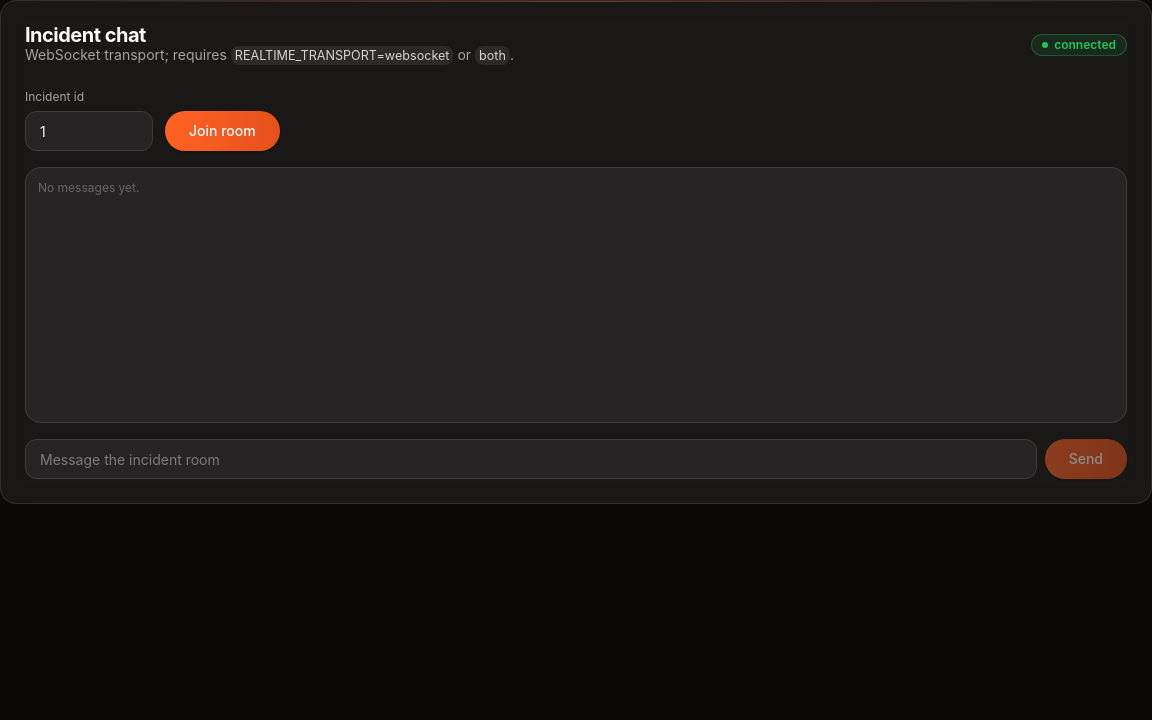
Test case: ChatPage › renders incoming chat messages for the joined room only
This screenshot has width=1152, height=720.
Click the button "Join room" at coordinates (222, 131), box [165,111,280,151]
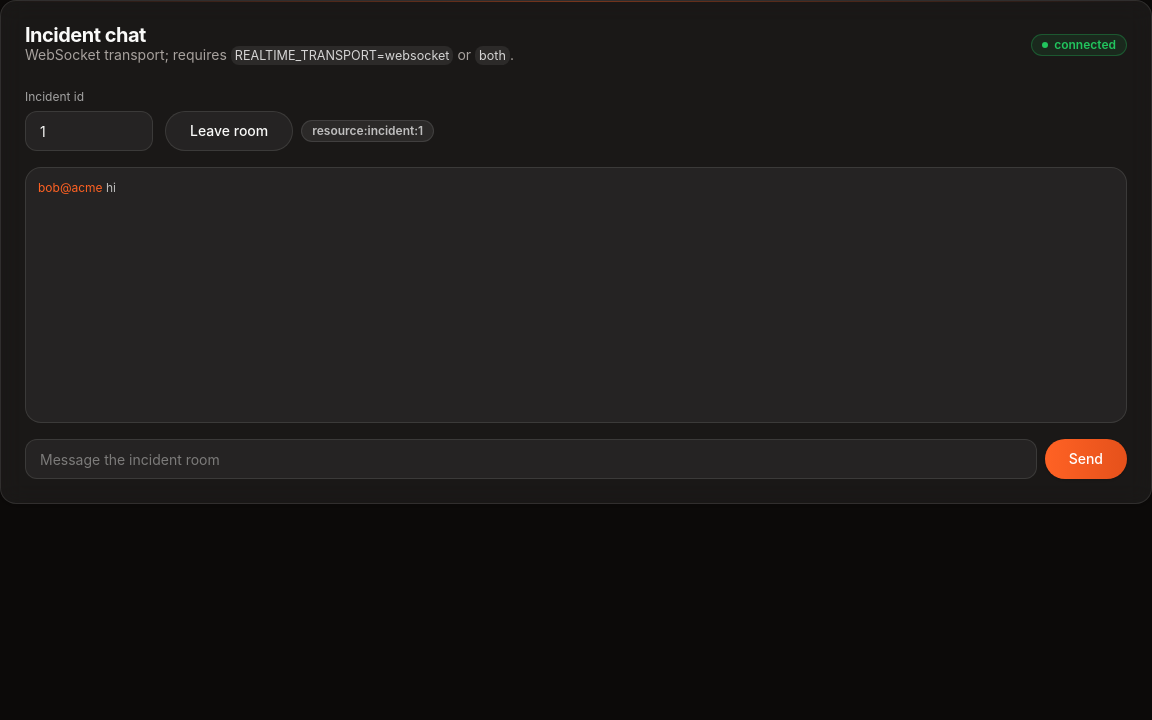
Now the text "hi" is shown, box [106,180,116,195]
